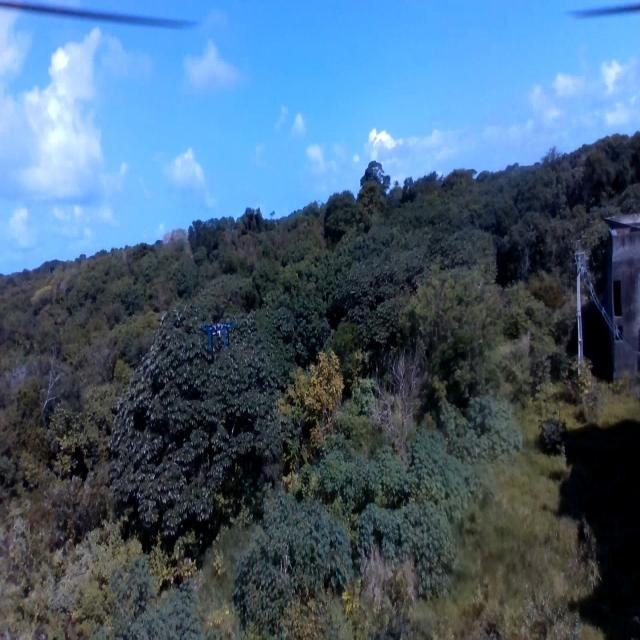-uav-: (198, 305, 235, 359)
